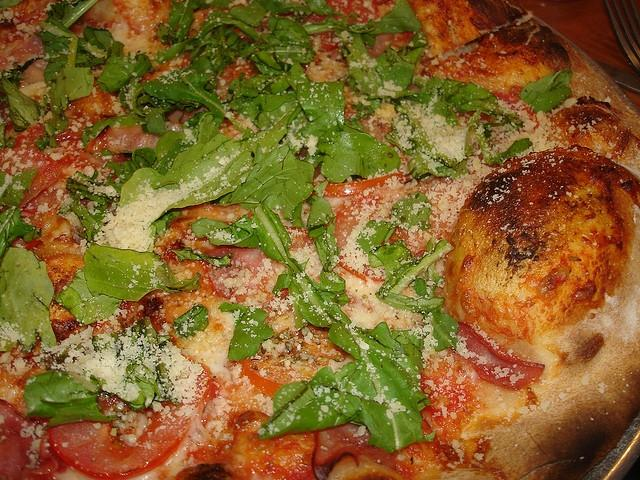tomato: (49, 362, 212, 480), (0, 117, 93, 209), (309, 133, 412, 197), (316, 424, 372, 467), (104, 122, 184, 152), (205, 244, 269, 278), (233, 359, 283, 398), (1, 434, 34, 480), (14, 34, 44, 63), (364, 32, 394, 58), (490, 85, 523, 105)
